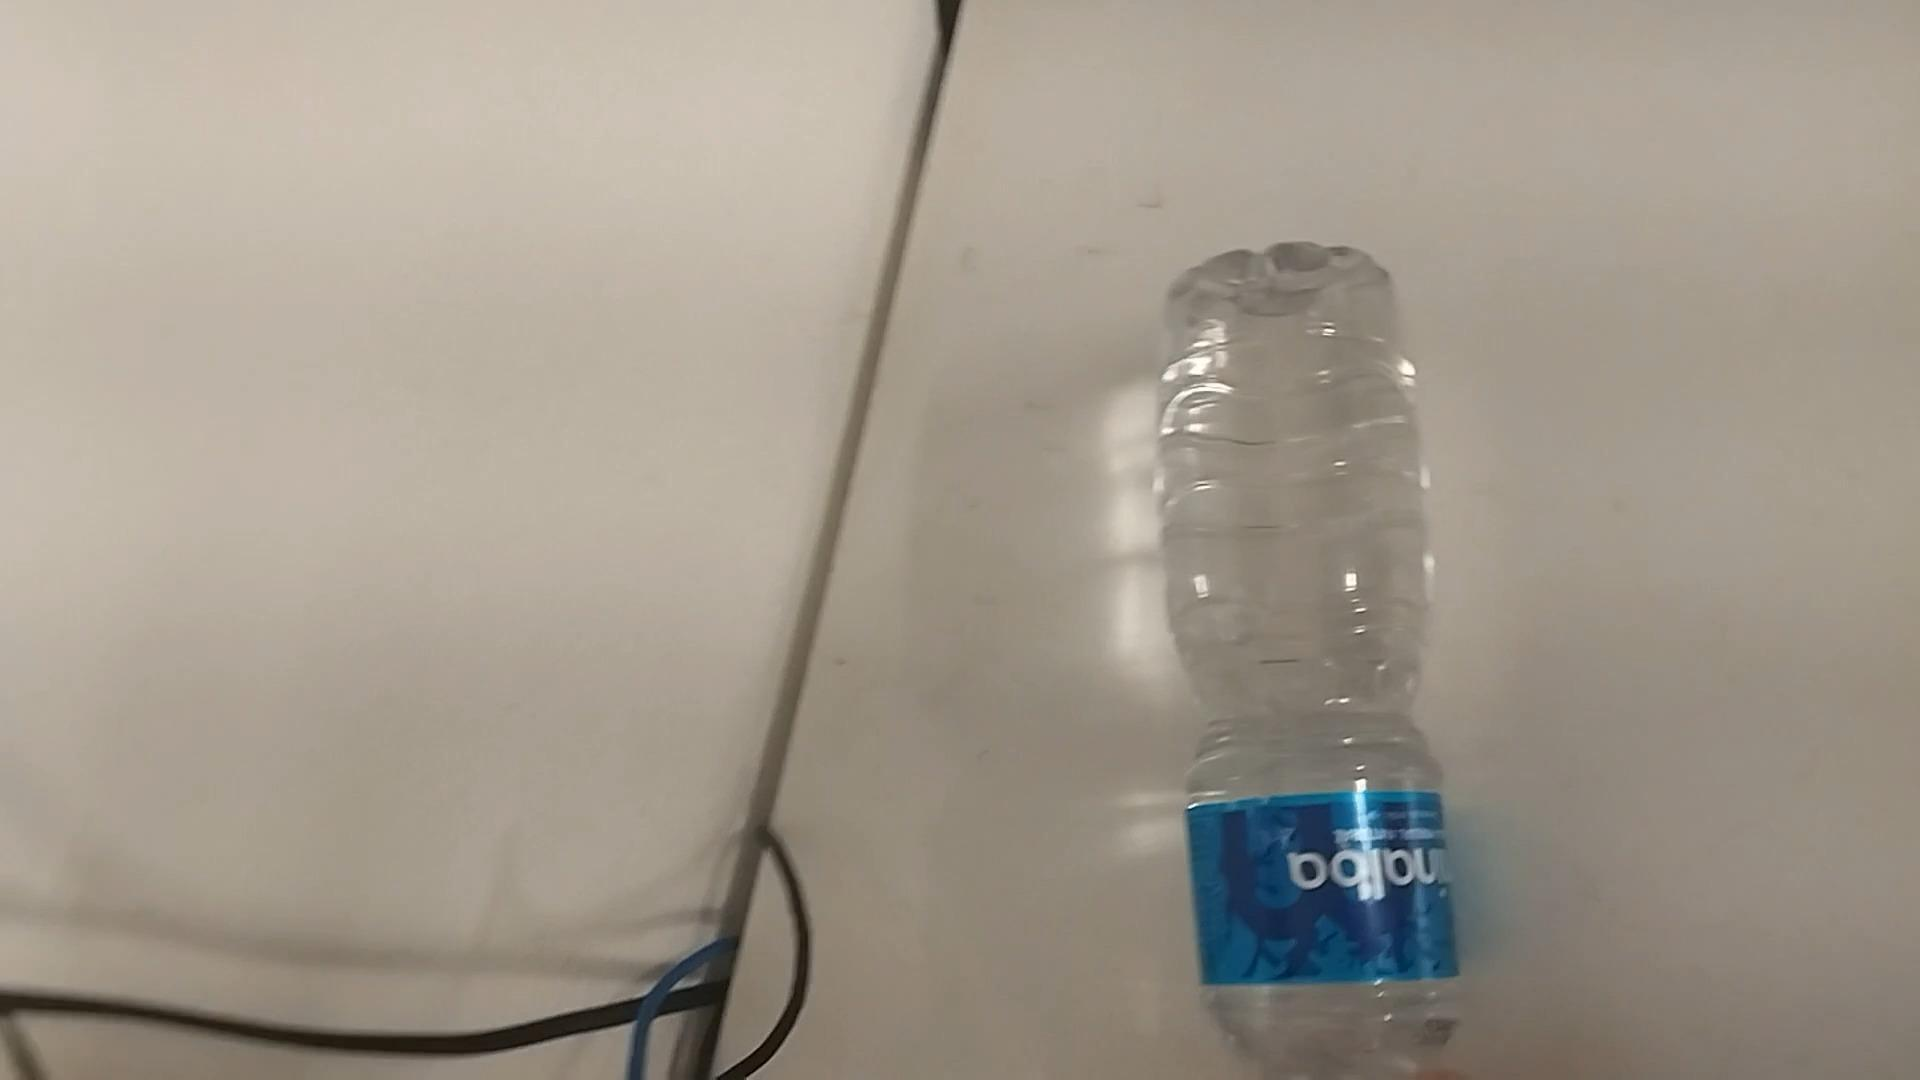agua: (1164, 249, 1460, 1080)
